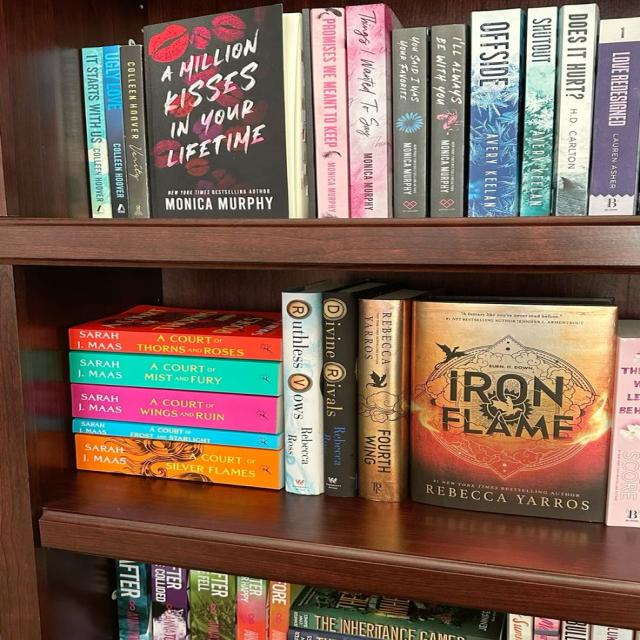book: (468, 9, 523, 216), (76, 434, 281, 489), (71, 384, 279, 434), (346, 4, 393, 218), (588, 18, 639, 214), (554, 4, 598, 215), (70, 353, 279, 397), (358, 298, 402, 501), (283, 292, 324, 495), (321, 288, 360, 496), (310, 8, 348, 218), (520, 8, 557, 216), (430, 24, 468, 217), (392, 27, 429, 217), (72, 419, 282, 450), (69, 329, 282, 359), (121, 44, 150, 218), (83, 48, 112, 218), (101, 46, 129, 218)
